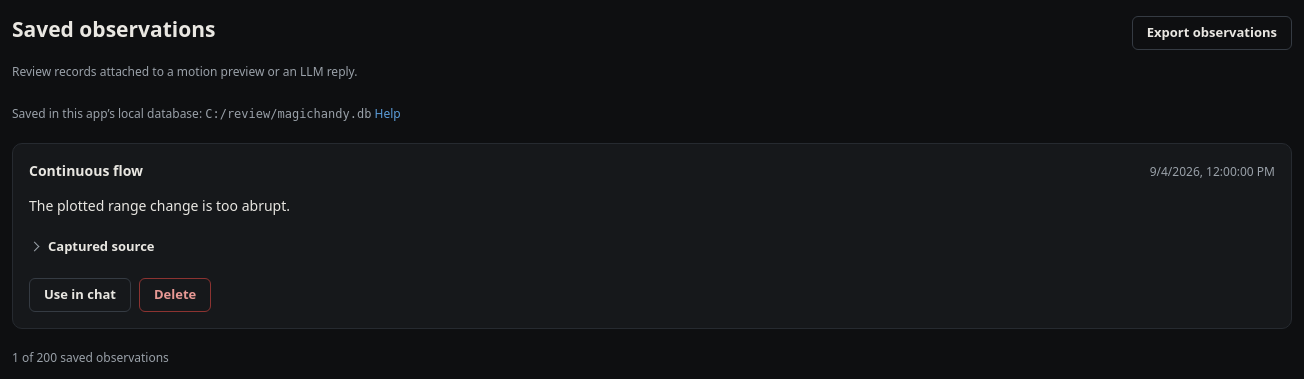
Test: saved lab observations › requires an explicit delete and renders the returned backend collection
This screenshot has width=1304, height=379.
Check: the text "The plotted range change is too abrupt." is shown, box [29,196,290,215]
Click the button "Delete": (175, 294) [139,278,211,312]
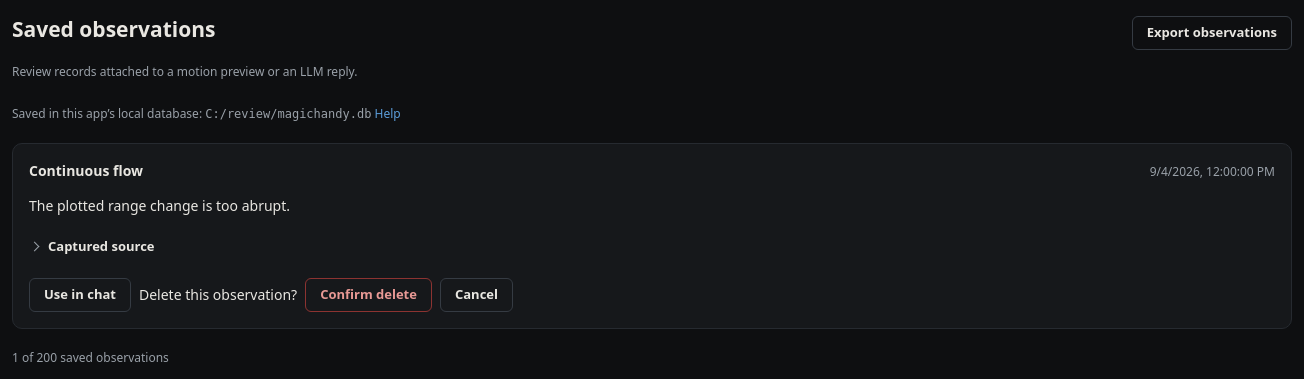
Click the button "Confirm delete": (368, 294) [305,278,432,312]
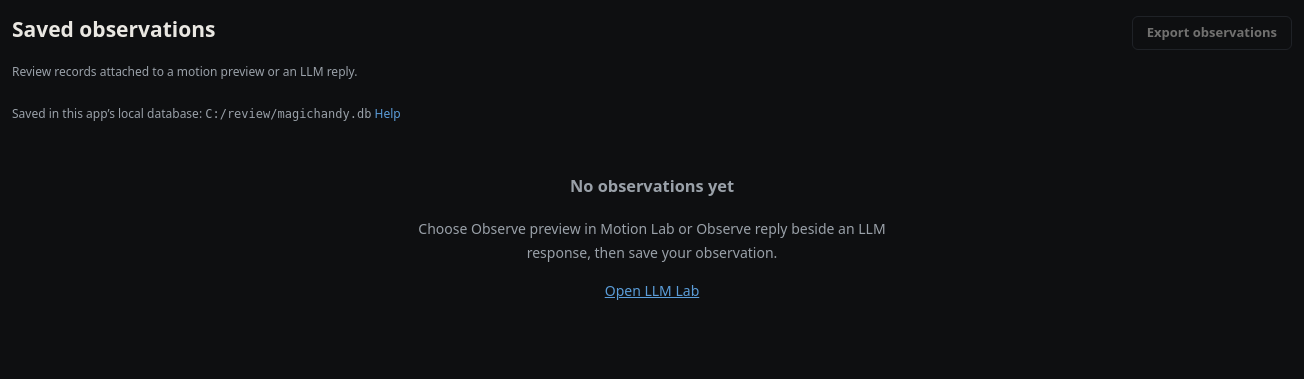
Check: the heading "No observations yet" is shown, box [570,175,734,197]
